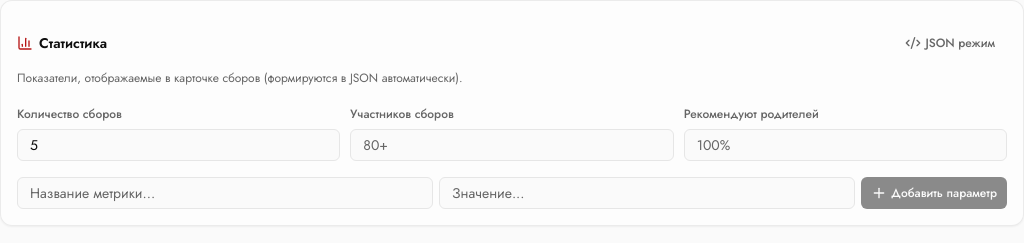
Test: SmartInputs - ItemsArrayInput & StatsObjectInput › StatsObjectInput › toggles raw JSON mode and updates correctly
Click the button "JSON режим" at (950, 43), box [893,29,1007,57]
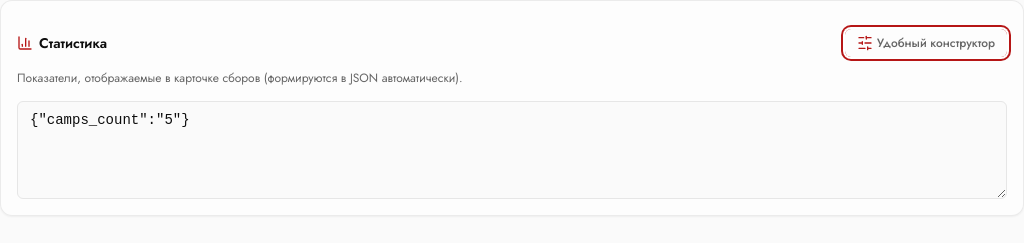
Result: the text box with placeholder "{\"camps_count\": \"5\", \"participants\": \"80+\"}" is shown at [17,100,1007,198]
// Switch back
Click the button "Удобный конструктор" at (926, 43), box [845,29,1007,57]
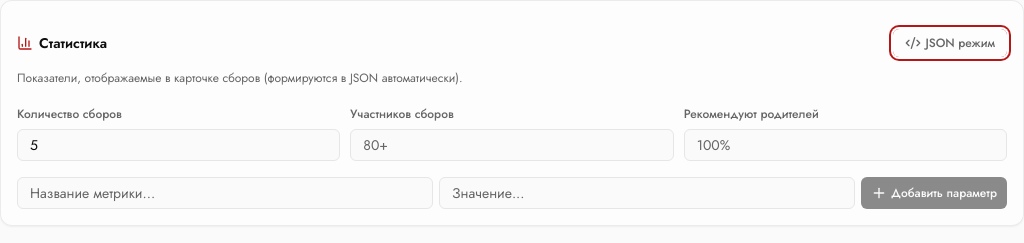
Result: the field showing "5" is shown at [17,128,340,160]
